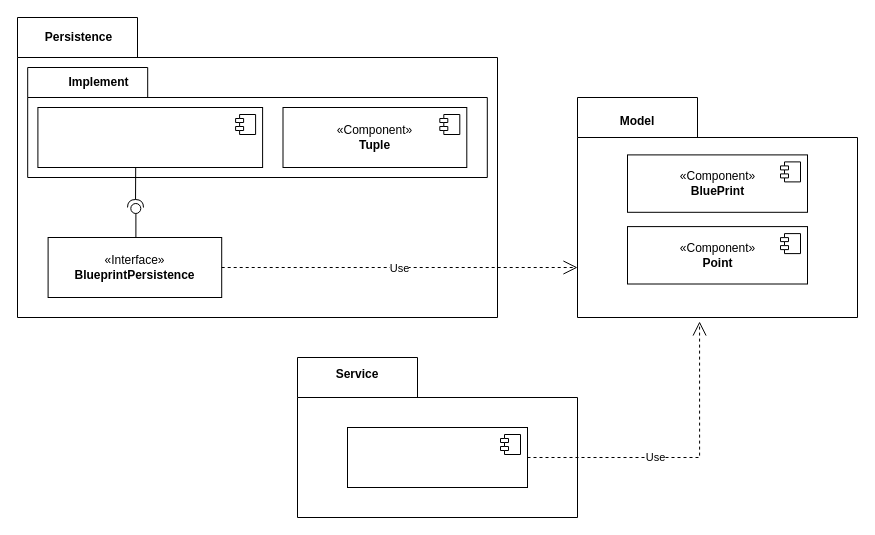
The diagram is 875 pixels wide and 535 high, and some of its shapes have lost their labels. Each missing label, with the centre of its shape:
"«Component» BluePrintServices" goes at point (437, 457).
"«Component» InMemoryBluePrintsPercistance" goes at point (150, 137).
